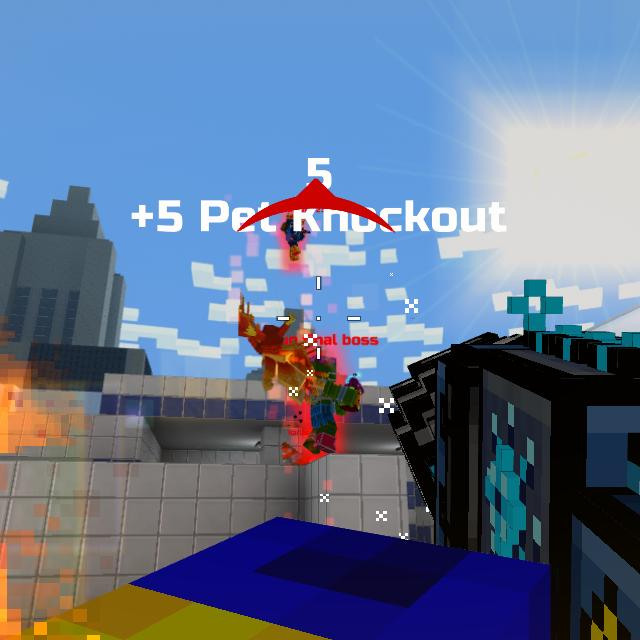Enemy: (296, 355, 358, 455), (280, 214, 306, 262)
